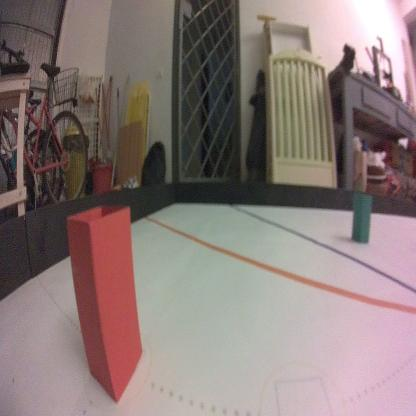green: (350, 189, 371, 244)
red: (66, 198, 147, 406)
